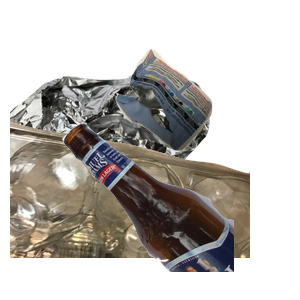glass: (60, 120, 300, 300)
metal: (10, 73, 212, 253)
plastic: (10, 120, 250, 300)
trash: (113, 46, 300, 189)
